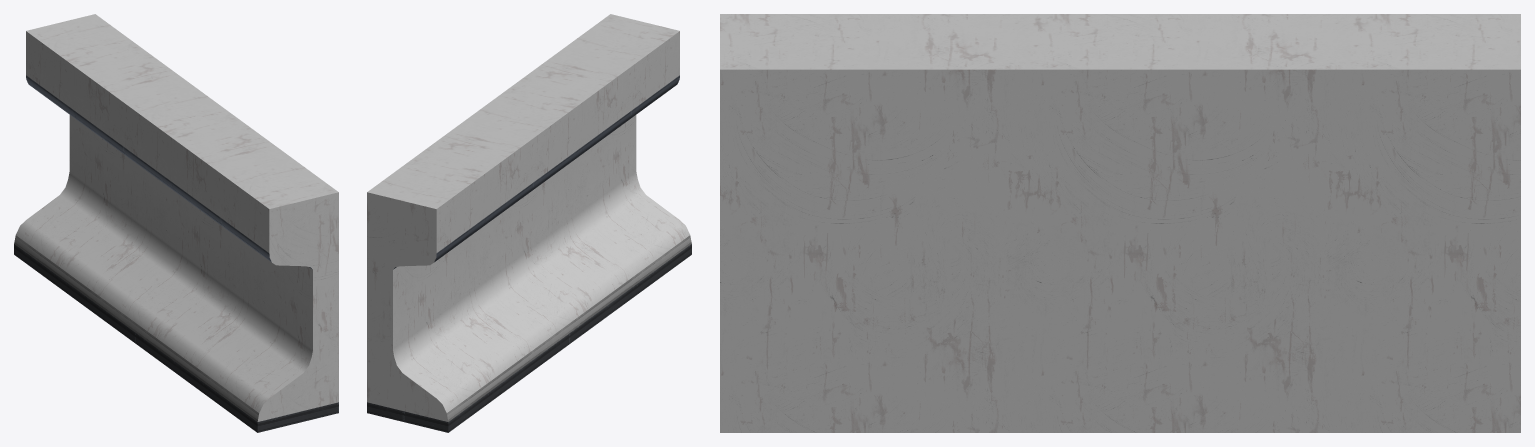
File: CP_Metro_Block_No_Door.fbx
3 renders of one model, left to right at view 1: azimuth 30°, elevation 25°; view 2: azimuth 150°, elevation 25°; view 3: azimuth 270°, elevation 25°, orthographic. The views are drawn at different scales.
Parts seen in each view (by area): view 1: CP_Metro_Block_No_Door; view 2: CP_Metro_Block_No_Door; view 3: CP_Metro_Block_No_Door.
Part boxes in pixels (x1,y1,x2,y2): CP_Metro_Block_No_Door: (14, 14, 338, 432); CP_Metro_Block_No_Door: (367, 14, 691, 432); CP_Metro_Block_No_Door: (720, 14, 1520, 432).
Bounding box in the file's own units: 193 × 501 × 1000.
